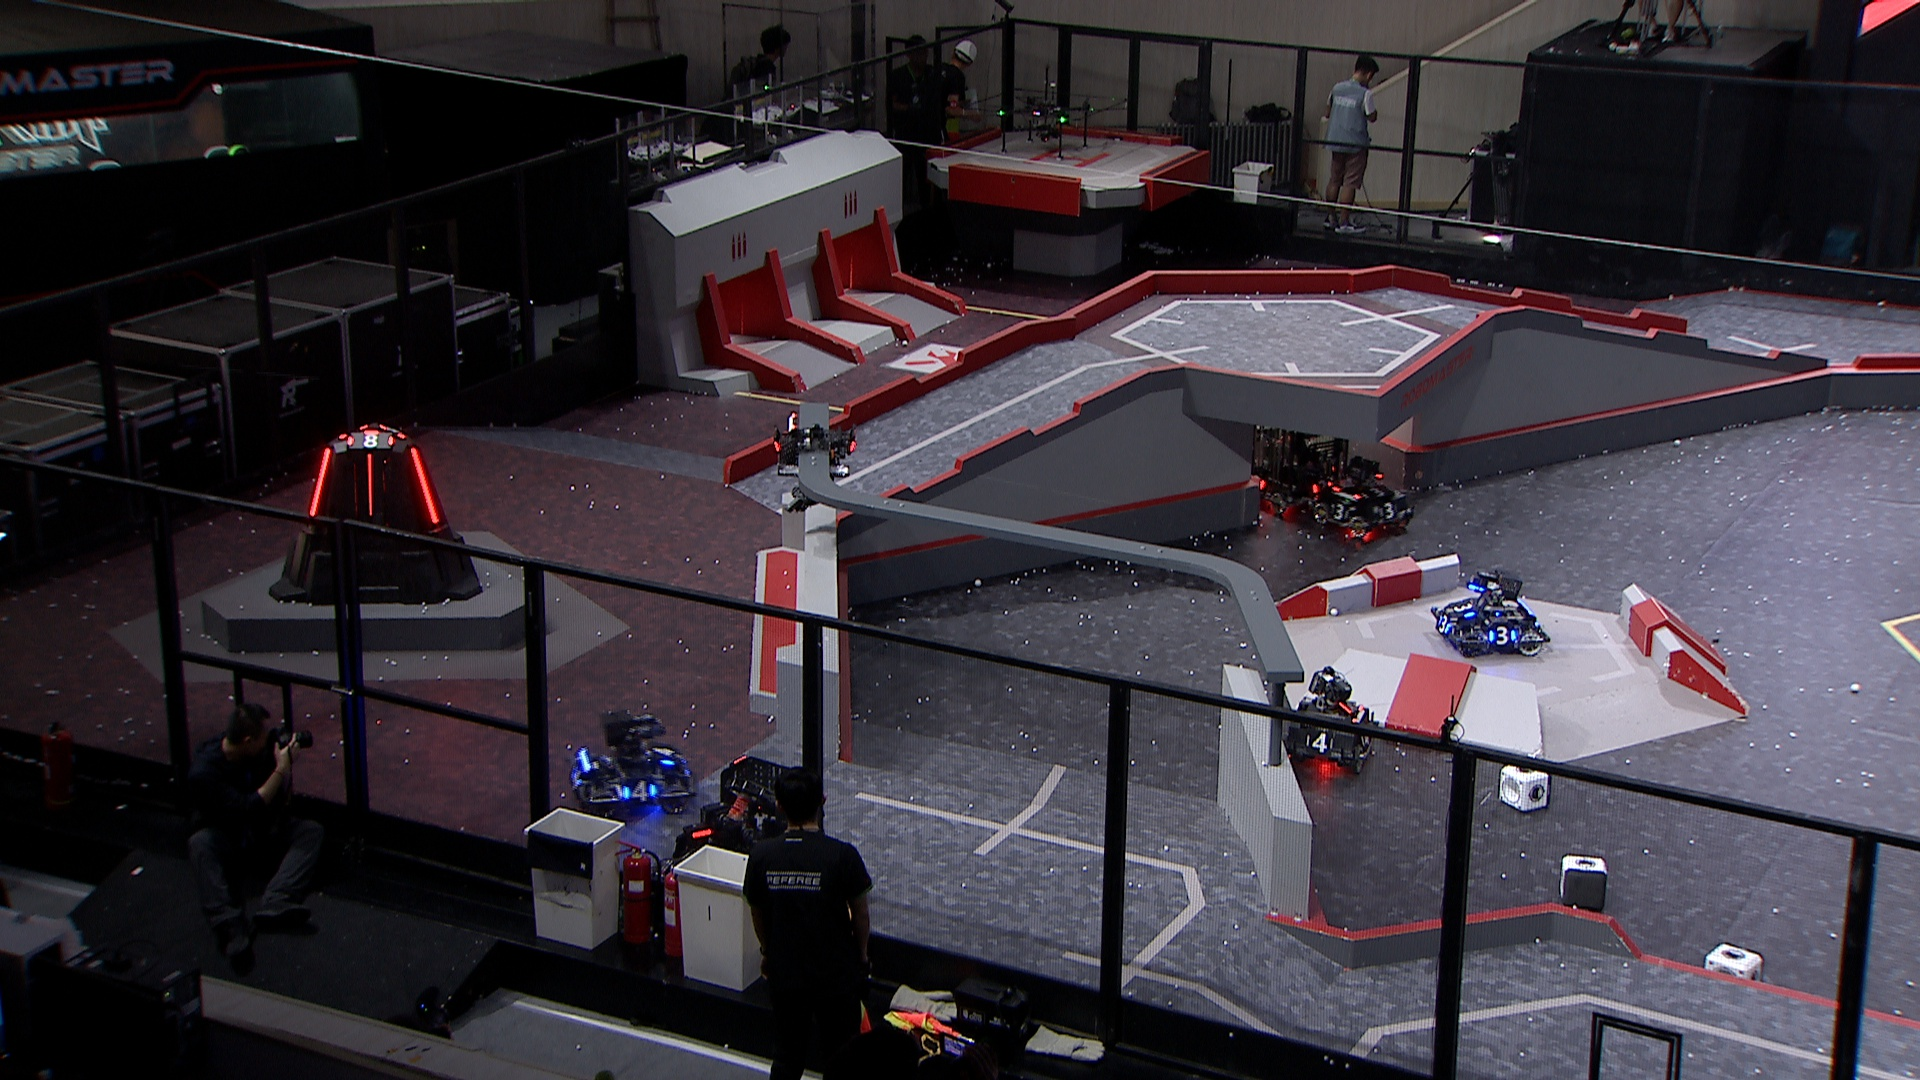armor: (407, 444, 443, 526), (306, 446, 332, 520), (621, 778, 659, 806), (345, 429, 396, 448), (365, 451, 377, 520), (1304, 731, 1337, 754), (651, 745, 679, 771), (1485, 626, 1520, 646), (564, 765, 585, 793), (1360, 484, 1393, 501), (1452, 597, 1476, 621), (1375, 498, 1400, 520), (1309, 476, 1337, 495), (1328, 502, 1352, 522), (1436, 613, 1453, 636), (1357, 728, 1373, 746)
base: (269, 419, 489, 609)
car: (670, 757, 832, 894), (560, 705, 698, 818), (1245, 396, 1353, 518), (1428, 566, 1552, 662), (1273, 665, 1381, 771), (1300, 458, 1418, 549)
watcher: (770, 407, 858, 516)
